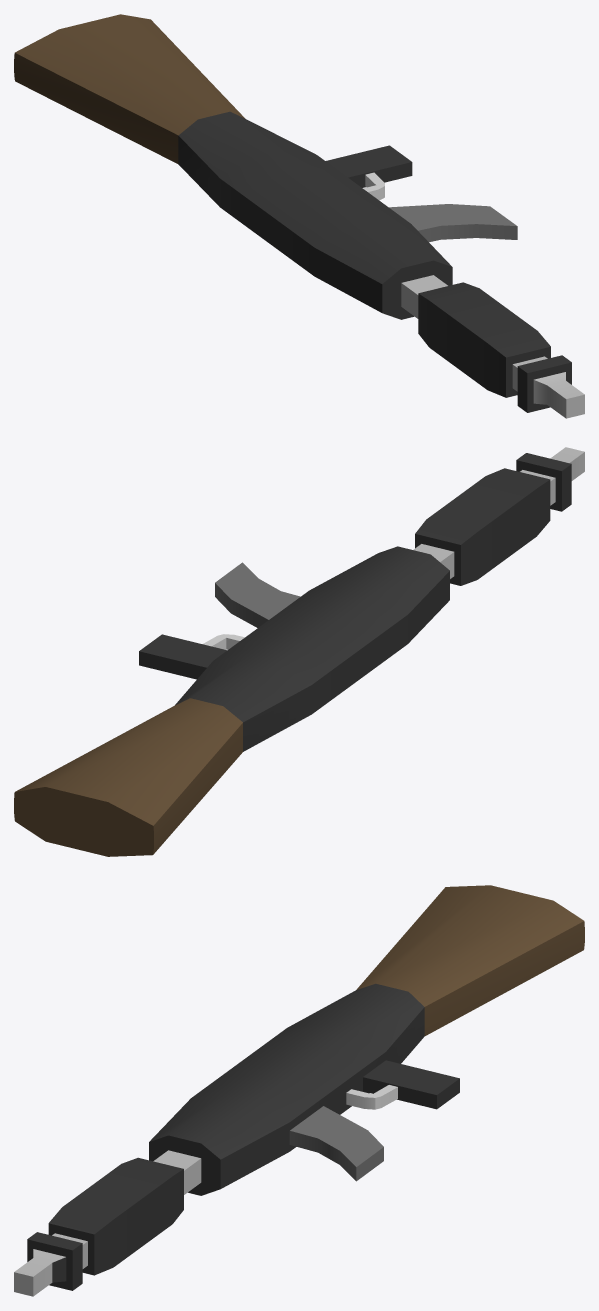
The model's file is AvaGewehr.fbx.
3 renders of one model, top to bottom at view 1: azimuth 30°, elevation 25°; view 2: azimuth 150°, elevation 25°; view 3: azimuth 330°, elevation 25°, orthographic.
Parts seen in each view (by area): view 1: Gewehr12; view 2: Gewehr12; view 3: Gewehr12.
Boxes of the visible parts, <box> form: Gewehr12: <box>14,14,584,418</box>; Gewehr12: <box>14,447,584,856</box>; Gewehr12: <box>14,885,584,1296</box>.
Bounding box in the file's own units: 0.9968 × 0.2456 × 4.04.
